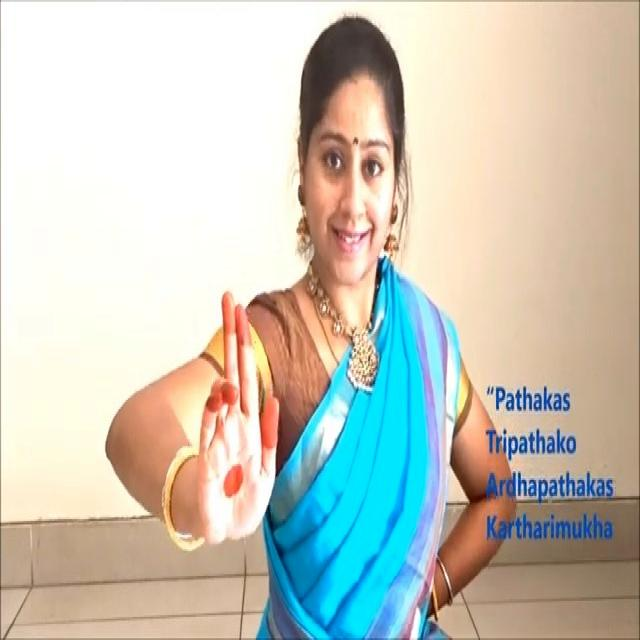Ardhapataka: (187, 274, 293, 563)
lady: (282, 9, 418, 289)
text: (468, 372, 636, 569)
